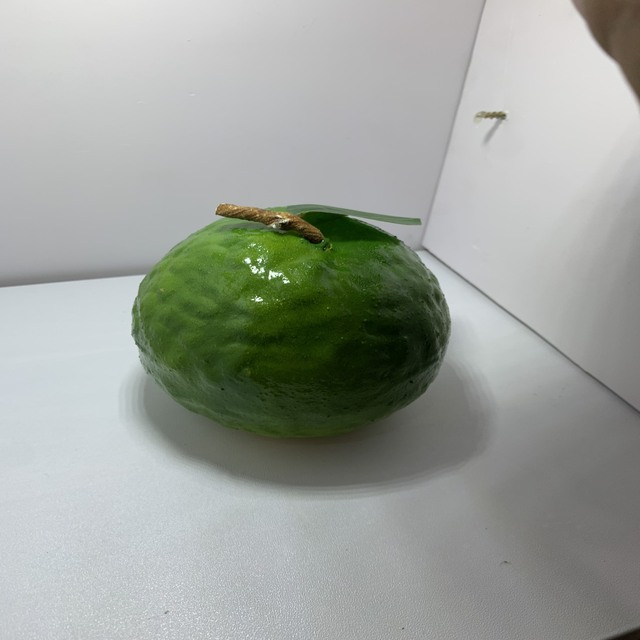Cam xanh: (122, 198, 465, 443)
